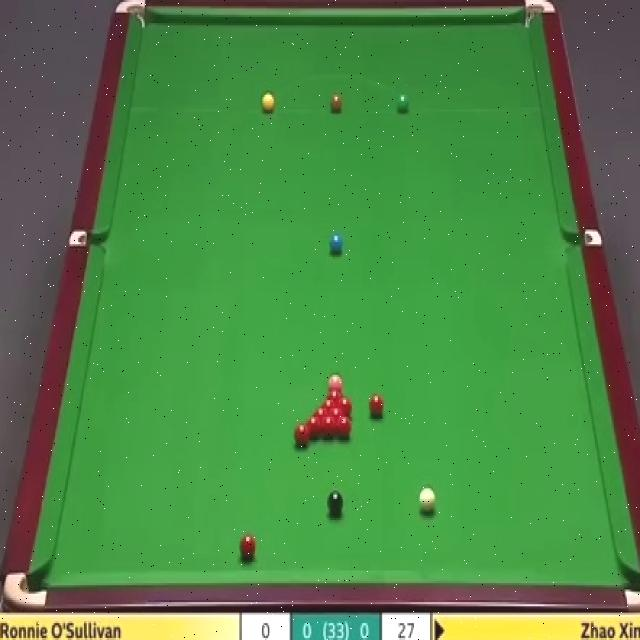black-ball: (326, 490, 346, 514)
blue-ball: (329, 232, 343, 255)
brown-ball: (329, 90, 343, 116)
green-ball: (395, 91, 409, 114)
pink-ball: (331, 372, 346, 387)
red-ball: (368, 392, 385, 421), (239, 534, 257, 558), (295, 424, 309, 448), (307, 416, 322, 438), (337, 396, 352, 417), (324, 416, 338, 437), (338, 416, 349, 438), (324, 390, 346, 401), (320, 398, 337, 410), (310, 408, 330, 418)
white-ball: (419, 484, 436, 513)
yellow-ball: (260, 92, 274, 113)
